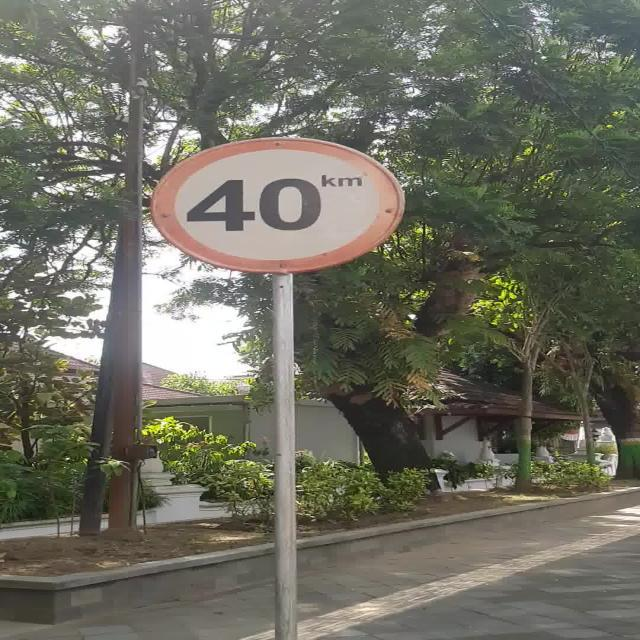Kecepatan Maks. 40 km: (150, 136, 406, 274)
